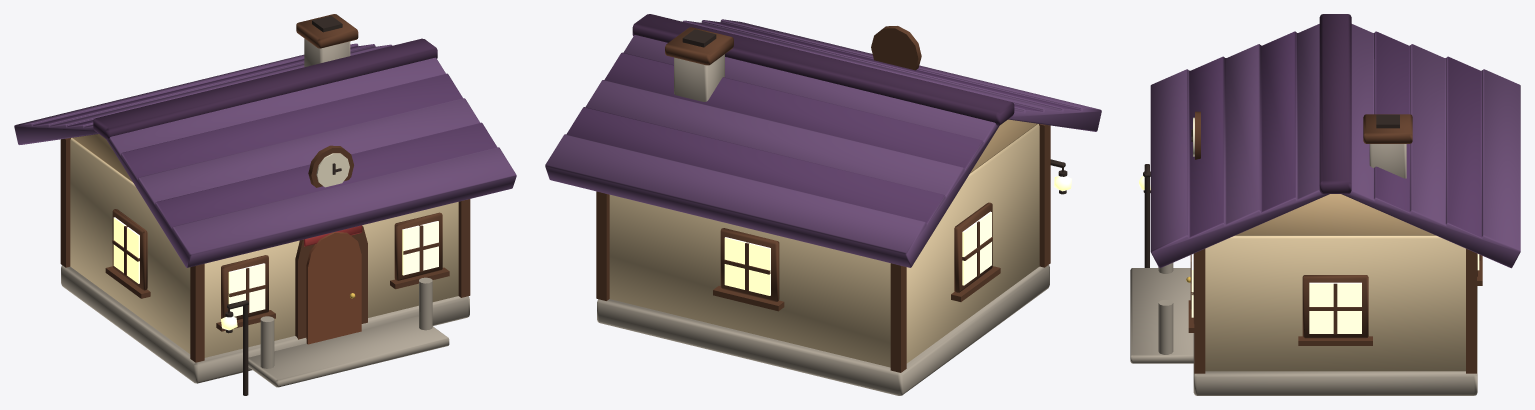
The model's file is v_hall.glb.
The picture shows the model from 3 angles, left to right: view 1: azimuth 30°, elevation 25°; view 2: azimuth 150°, elevation 25°; view 3: azimuth 270°, elevation 25°; orthographic projection. The views are drawn at different scales.
Parts seen in each view (by area): view 1: Hall; view 2: Hall; view 3: Hall.
Part boxes in pixels (x1=…): Hall: x1=14, y1=14, x2=516, y2=395; Hall: x1=545, y1=14, x2=1101, y2=395; Hall: x1=1130, y1=14, x2=1520, y2=395.
Size of the model in its own units: 6.5 by 4.5 by 6.32.
